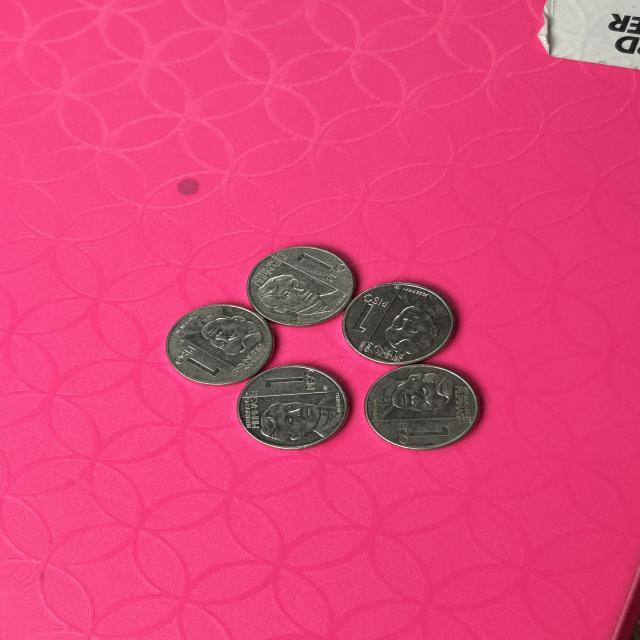1_New_Front: (290, 247, 344, 291), (171, 338, 221, 384), (387, 418, 453, 447), (261, 367, 320, 395), (351, 290, 382, 338)
